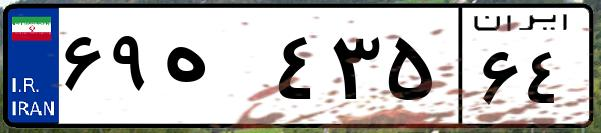3: (330, 28, 385, 110)
4: (270, 28, 330, 110), (525, 38, 570, 115)
5: (385, 28, 445, 110)
6: (57, 26, 110, 100), (475, 38, 525, 113)
9: (110, 28, 158, 98)
ه: (158, 20, 270, 120)
